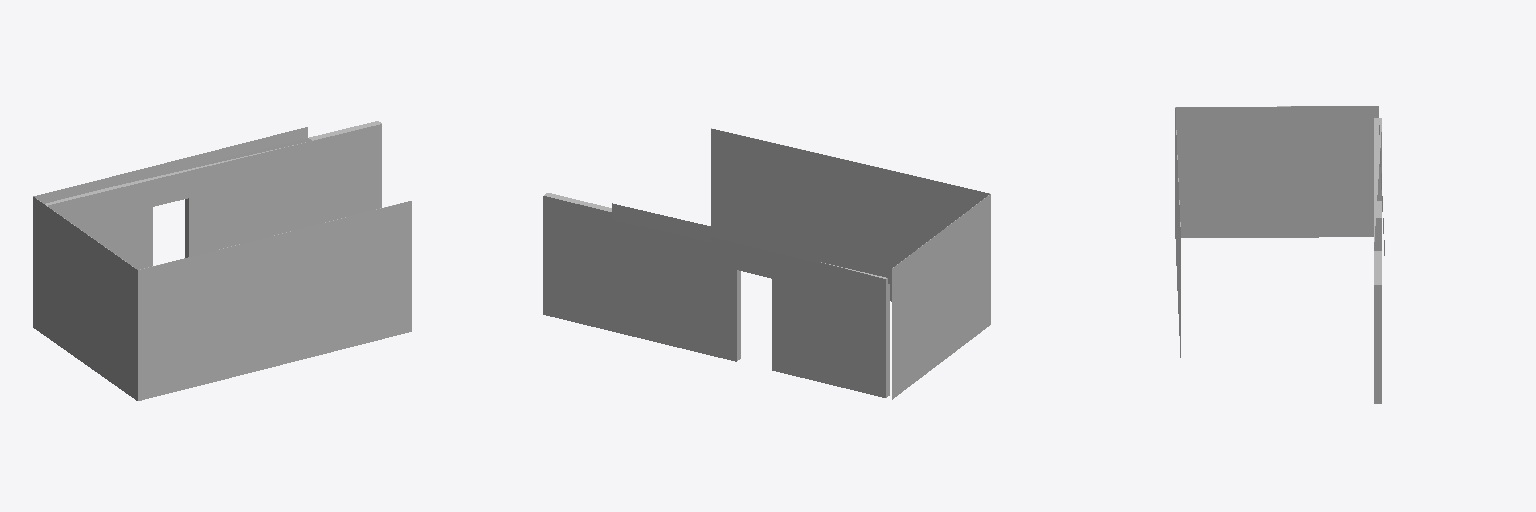
The model's file is wall.obj.
3 views of the same model, side by side, from view 1: azimuth 30°, elevation 25°; view 2: azimuth 150°, elevation 25°; view 3: azimuth 270°, elevation 25° (orthographic).
Parts seen in each view (by area): view 1: Plane.001, 立方体, Plane, 立方体.001, 立方体.002, Plane.002; view 2: Plane.001, 立方体, Plane, 立方体.002, 立方体.001, Plane.002; view 3: Plane, 立方体, Plane.001, 立方体.001.
Boxes of the visible parts, box(x1,y1,x2,y2) form: Plane.001: box(138, 201, 411, 400); 立方体: box(185, 121, 381, 257); Plane: box(33, 197, 137, 400); 立方体.001: box(45, 138, 310, 206); 立方体.002: box(49, 207, 152, 269); Plane.002: box(33, 127, 307, 203); Plane.001: box(711, 128, 989, 301); 立方体: box(543, 193, 740, 361); Plane: box(892, 194, 990, 399); 立方体.002: box(772, 278, 889, 397); 立方体.001: box(645, 227, 886, 278); Plane.002: box(612, 203, 891, 284); Plane: box(1176, 106, 1378, 237); 立方体: box(1374, 218, 1381, 403); Plane.001: box(1175, 107, 1180, 357); 立方体.001: box(1374, 118, 1381, 241).
Bounding box in the file's own units: 18.82 × 6.81 × 9.83.